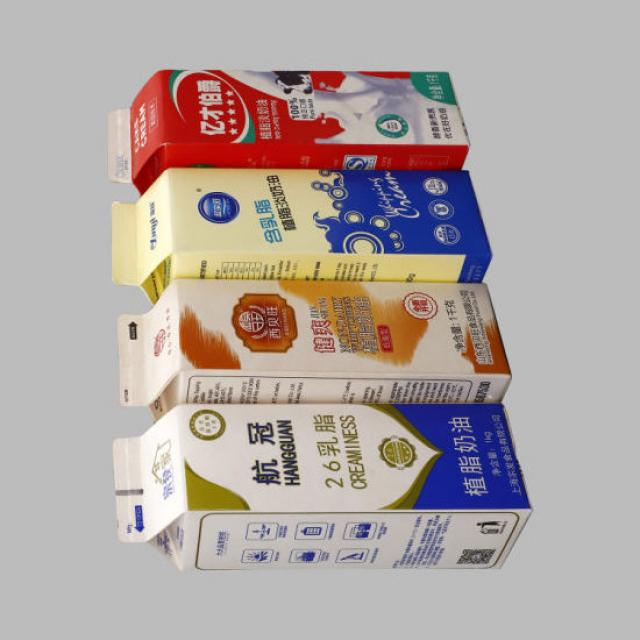non_white_jug: (112, 401, 532, 568), (116, 279, 514, 406), (109, 168, 496, 280), (112, 67, 472, 168)
